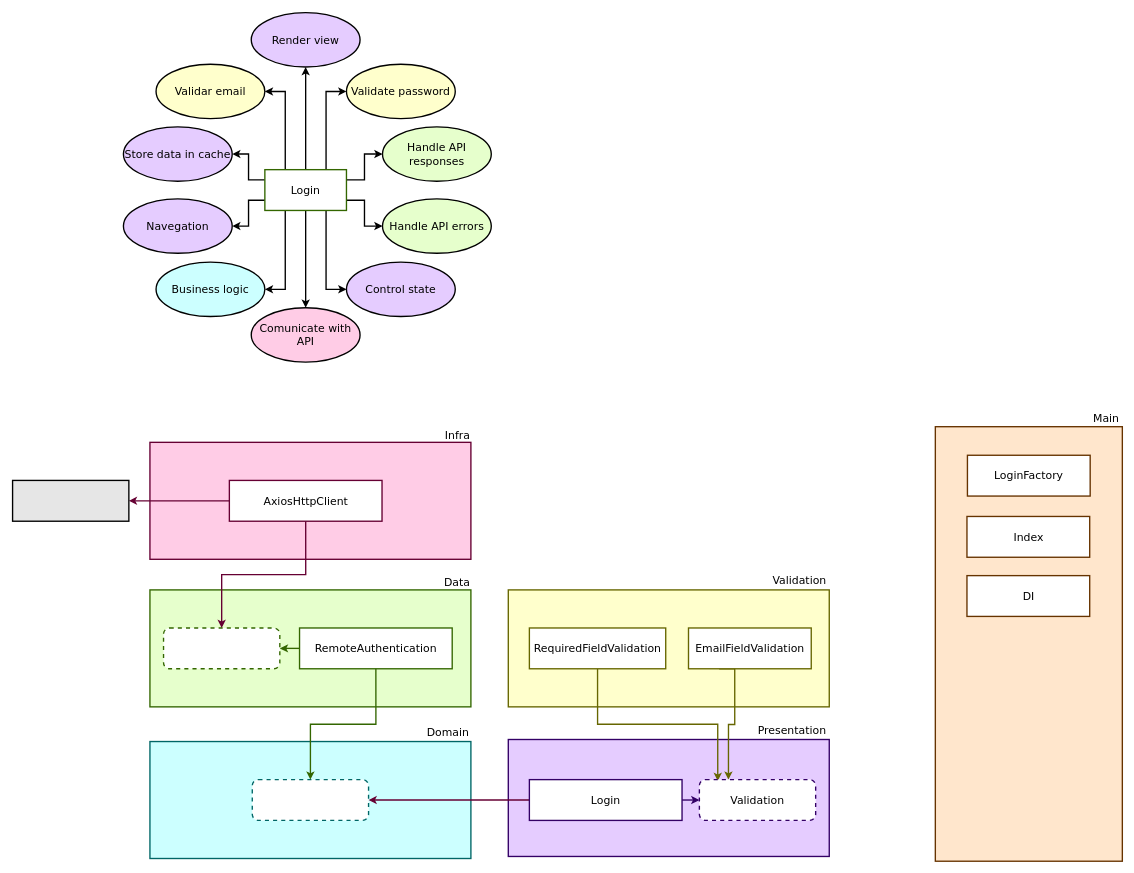
Image size: 1134x873. Some labels were removed from this diagram. Here are the shapes that lost their labels. From the top down, the centre of each, then its label:
(70,500): Axios
(221,648): HttpPostClient
(310,800): Authentication
